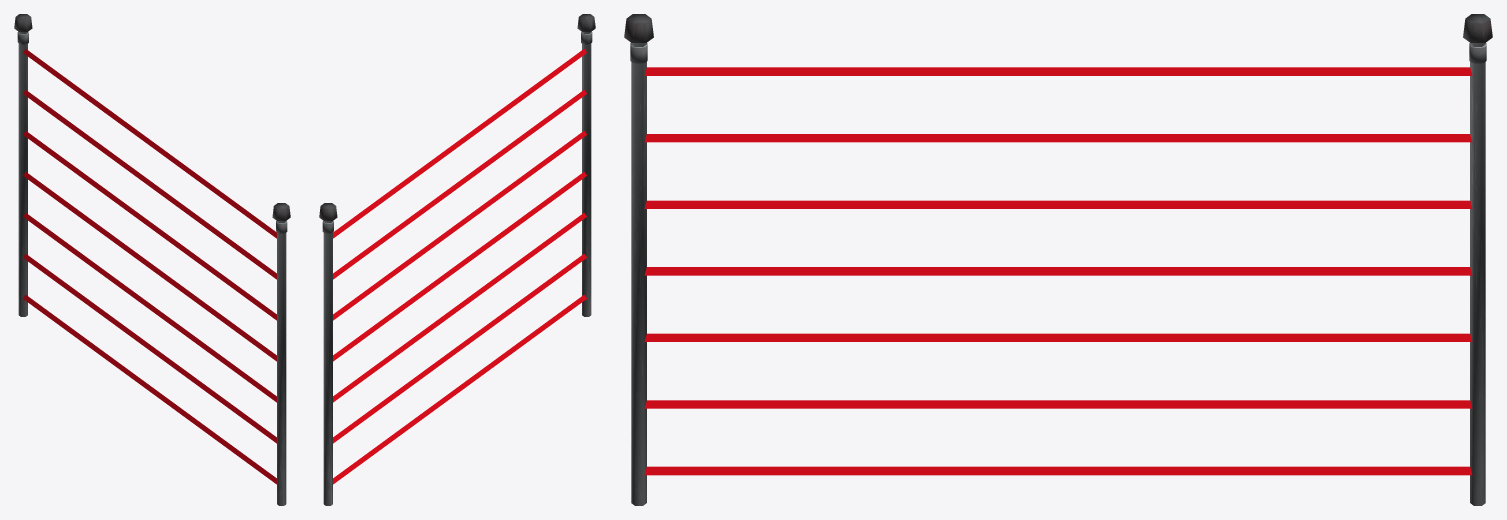
The model's file is Fence.fbx.
The picture shows the model from 3 angles, left to right: view 1: azimuth 30°, elevation 25°; view 2: azimuth 150°, elevation 25°; view 3: azimuth 270°, elevation 25°; orthographic projection. The views are drawn at different scales.
Visible parts, largest first — view 1: Cylinder; view 2: Cylinder; view 3: Cylinder.
Part boxes in pixels (box(x1,y1,x2,y2)): Cylinder: box(14, 14, 290, 505); Cylinder: box(319, 14, 595, 505); Cylinder: box(624, 14, 1492, 505).
Bounding box in the file's own units: 0.2772 × 5.73 × 9.31.
2 materials, 1 textured.
